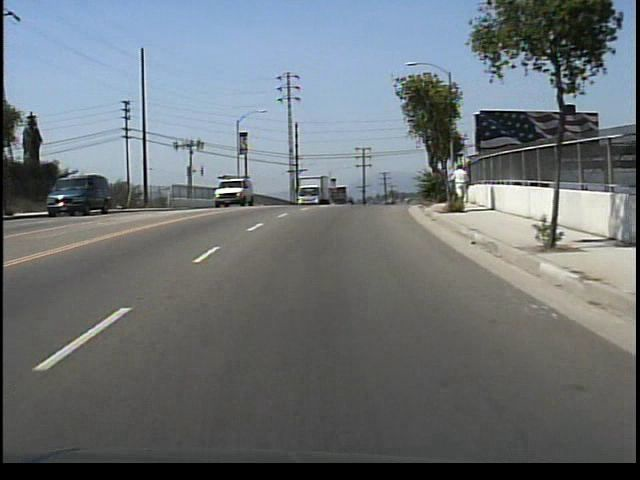person: (450, 161, 471, 197)
